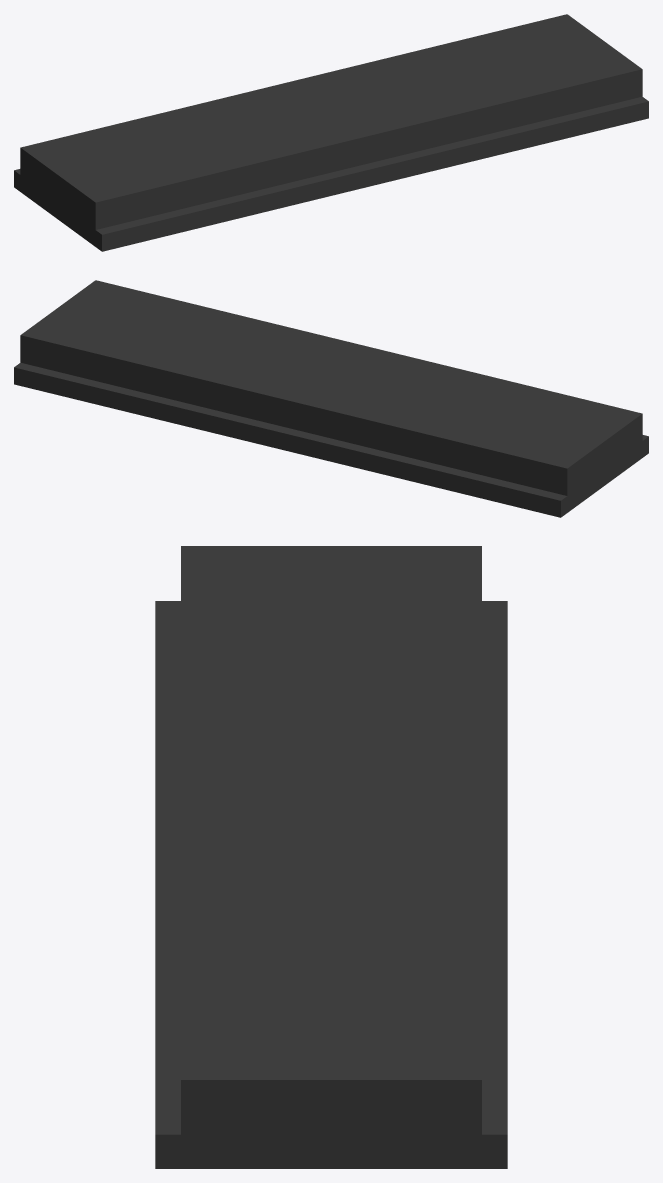
File: PistolMod_01.fbx
3 views of the same model, one above another, from view 1: azimuth 30°, elevation 25°; view 2: azimuth 150°, elevation 25°; view 3: azimuth 270°, elevation 25° (orthographic). The views are drawn at different scales.
Parts seen in each view (by area): view 1: PistolMod_01; view 2: PistolMod_01; view 3: PistolMod_01.
Boxes of the visible parts, bbox=[...] form: PistolMod_01: bbox=[14, 14, 648, 251]; PistolMod_01: bbox=[14, 280, 648, 517]; PistolMod_01: bbox=[155, 546, 507, 1168].
Bounding box in the file's own units: 0.0739 × 0.00575 × 0.0206.
